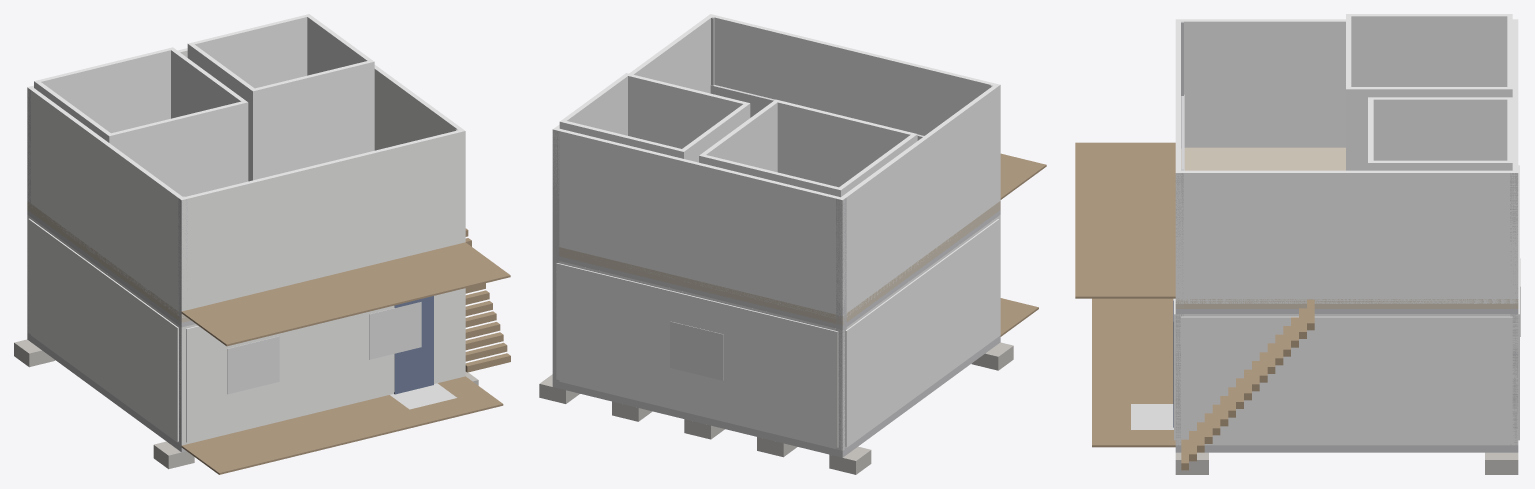
Rendered from Duplex-20-Village-LOD0.glb.
3 renders of one model, left to right at view 1: azimuth 30°, elevation 25°; view 2: azimuth 150°, elevation 25°; view 3: azimuth 270°, elevation 25°, orthographic. The views are drawn at different scales.
Parts seen in each view (by area): view 1: ExteriorShellUpper, ExteriorPanelsStandard, StudyUpper, BedroomUpper, BalconyUpper, BalconyGround, WindowsStandard, StaircaseExternal, ExteriorShell, EntryDoor, FoundationBlocks, FloorUpper (+4 smaller); view 2: ExteriorShellUpper, ExteriorPanelsStandard, BedroomUpper, StudyUpper, FloorUpper, VerticalStructure, FoundationBlocks, BaseFrame, ExteriorShell, WindowsStandard, TopFrame, BalconyUpper (+2 smaller); view 3: ExteriorShellUpper, ExteriorPanelsStandard, BalconyUpper, BedroomUpper, BalconyGround, StudyUpper, FloorUpper, StaircaseExternal, ExteriorShell, BaseFrame, VerticalStructure, TopFrame (+2 smaller).
Part boxes in pixels (x1,y1,x2,y2): ExteriorShellUpper: (27,48,465,317); ExteriorPanelsStandard: (28,218,461,442); StudyUpper: (187,14,374,181); BedroomUpper: (34,47,248,196); BalconyUpper: (181,242,510,346); BalconyGround: (181,376,503,474); WindowsStandard: (227,302,421,394); StaircaseExternal: (465,228,510,372); ExteriorShell: (27,215,465,445); EntryDoor: (394,296,433,394); FoundationBlocks: (14,339,478,469); FloorUpper: (27,201,190,322); ExteriorShellUpper: (552,14,1000,318); ExteriorPanelsStandard: (556,219,999,447); BedroomUpper: (699,99,917,197); StudyUpper: (559,73,750,162); FloorUpper: (558,201,1000,325); VerticalStructure: (552,17,998,449); FoundationBlocks: (539,342,1013,474); BaseFrame: (552,335,1000,457); ExteriorShell: (556,215,1000,450); WindowsStandard: (670,321,723,380); TopFrame: (555,210,1000,329); BalconyUpper: (1000,153,1046,199); ExteriorShellUpper: (1175,19,1518,303); ExteriorPanelsStandard: (1174,165,1519,443); BalconyUpper: (1075,142,1175,298); BedroomUpper: (1346,14,1512,170); BalconyGround: (1092,298,1175,447); StudyUpper: (1368,97,1512,170); FloorUpper: (1175,147,1518,308); StaircaseExternal: (1181,299,1314,470); ExteriorShell: (1175,314,1518,445); BaseFrame: (1175,445,1518,452); VerticalStructure: (1175,21,1518,445); TopFrame: (1175,309,1518,313).
Size of the model in its own units: 7.94 by 6 by 8.
